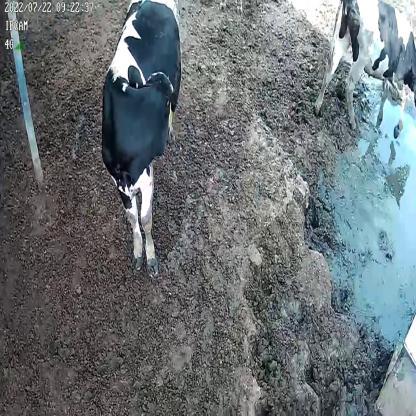cow: (101, 0, 182, 266)
